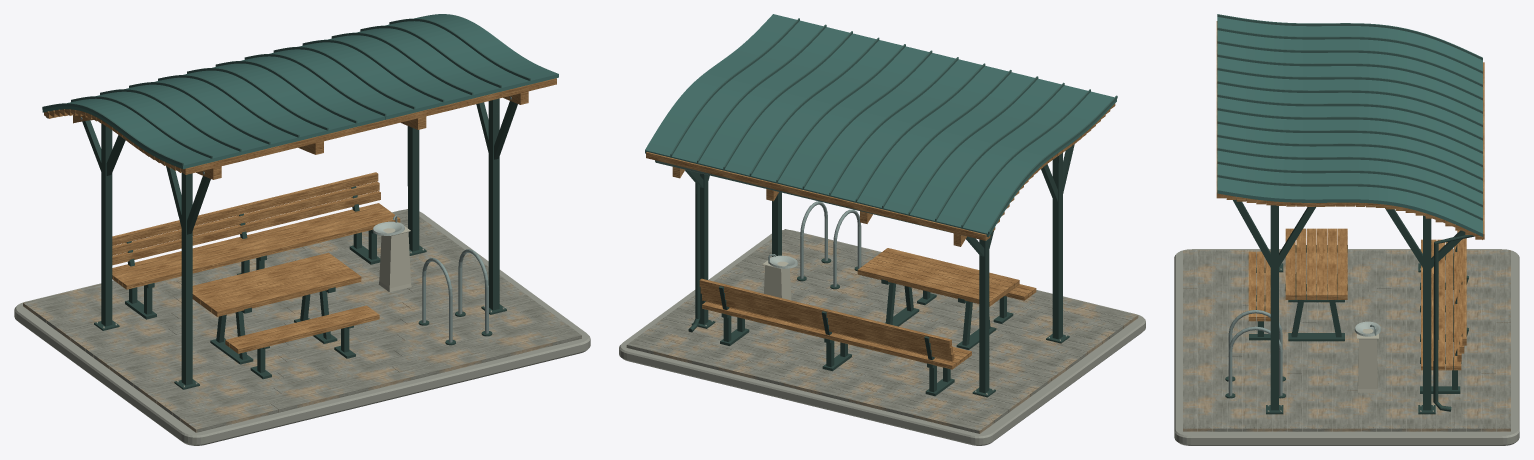
Rendered from hangang_riverside_pavilion.glb.
3 renders of one model, left to right at view 1: azimuth 30°, elevation 25°; view 2: azimuth 150°, elevation 25°; view 3: azimuth 270°, elevation 25°, orthographic. The views are drawn at different scales.
Parts seen in each view (by area): view 1: 03 Patinated roof and fixings, 02 Drain-gapped deck boards, 01 Glulam beams and oak seating, 04 Plinth and drinking fountain; view 2: 03 Patinated roof and fixings, 02 Drain-gapped deck boards, 01 Glulam beams and oak seating, 04 Plinth and drinking fountain; view 3: 03 Patinated roof and fixings, 02 Drain-gapped deck boards, 04 Plinth and drinking fountain, 01 Glulam beams and oak seating.
Part boxes in pixels (box(x1,y1,x2,y2)): 03 Patinated roof and fixings: box(27, 14, 569, 427); 02 Drain-gapped deck boards: box(23, 209, 581, 432); 01 Glulam beams and oak seating: box(44, 78, 556, 353); 04 Plinth and drinking fountain: box(14, 209, 590, 445); 03 Patinated roof and fixings: box(630, 14, 1134, 415); 02 Drain-gapped deck boards: box(626, 229, 1138, 433); 01 Glulam beams and oak seating: box(646, 103, 1115, 369); 04 Plinth and drinking fountain: box(619, 230, 1145, 445); 03 Patinated roof and fixings: box(1194, 14, 1499, 427); 02 Drain-gapped deck boards: box(1183, 250, 1510, 431); 04 Plinth and drinking fountain: box(1174, 249, 1519, 445); 01 Glulam beams and oak seating: box(1216, 21, 1484, 370).
Size of the model in its own units: 5.72 by 3.58 by 4.44.
Materials: 4 (2 with a texture image).
